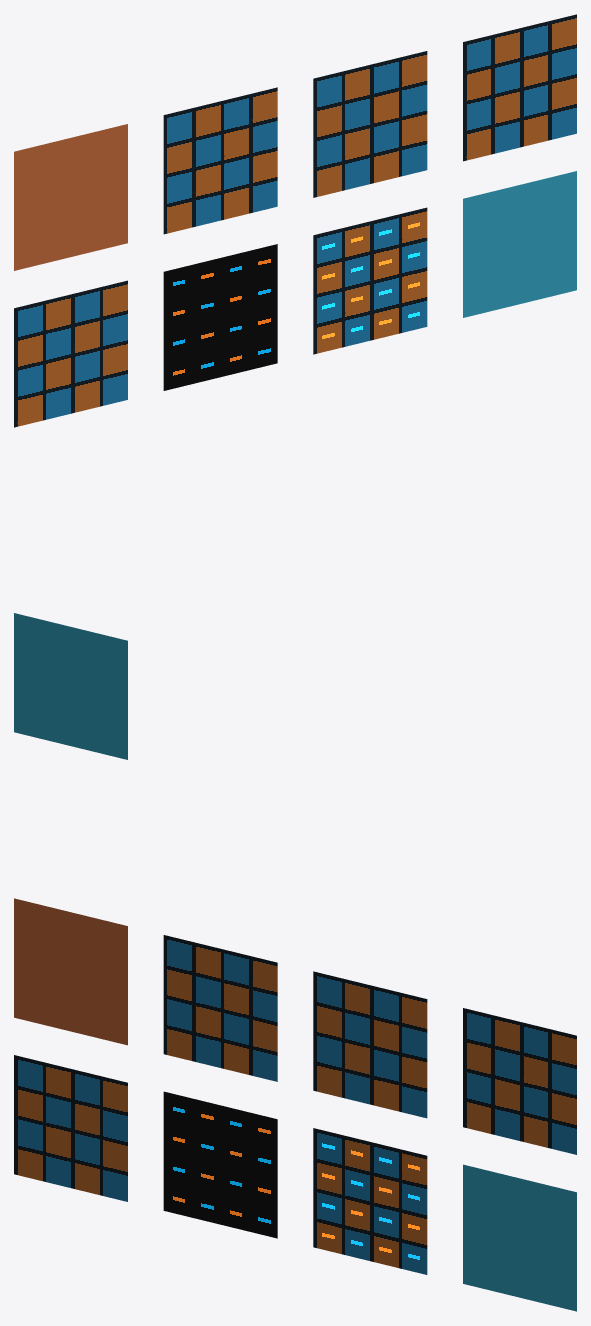
Rendered from panels.glb.
3 renders of one model, top to bottom at view 1: azimuth 30°, elevation 25°; view 2: azimuth 150°, elevation 25°; view 3: azimuth 330°, elevation 25°, orthographic.
Parts seen in each view (by area): view 1: MR, Emission, Color, Five maps, Factor, Back face, MR+AO, Normal; view 2: Back face; view 3: Color, Five maps, MR, Emission, MR+AO, Normal, Factor, Back face.
Boxes of the visible parts, left/top/right/bottom form: MR: left=313, top=51, right=427, bottom=197; Emission: left=163, top=244, right=277, bottom=390; Color: left=163, top=87, right=277, bottom=234; Five maps: left=313, top=207, right=427, bottom=354; Factor: left=14, top=124, right=127, bottom=270; Back face: left=463, top=171, right=576, bottom=317; MR+AO: left=463, top=14, right=576, bottom=161; Normal: left=14, top=280, right=127, bottom=427; Back face: left=14, top=613, right=127, bottom=759; Color: left=163, top=935, right=277, bottom=1081; Five maps: left=313, top=1128, right=427, bottom=1274; MR: left=313, top=971, right=427, bottom=1118; Emission: left=163, top=1091, right=277, bottom=1238; MR+AO: left=463, top=1008, right=576, bottom=1154; Normal: left=14, top=1055, right=127, bottom=1201; Factor: left=14, top=898, right=127, bottom=1045; Back face: left=463, top=1164, right=576, bottom=1311.
Bounding box in the file's own units: 7.9 × 3.7 × 0.
Materials: 8 (6 with a texture image).
